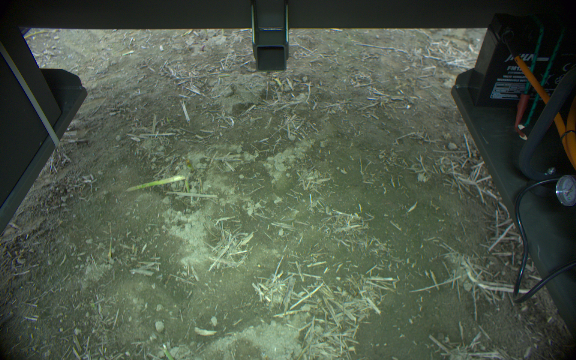aspa: (125, 172, 189, 194)
